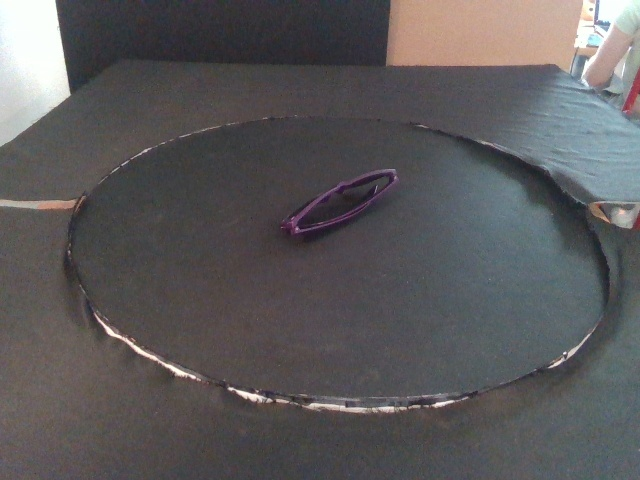glasses: (279, 167, 400, 236)
